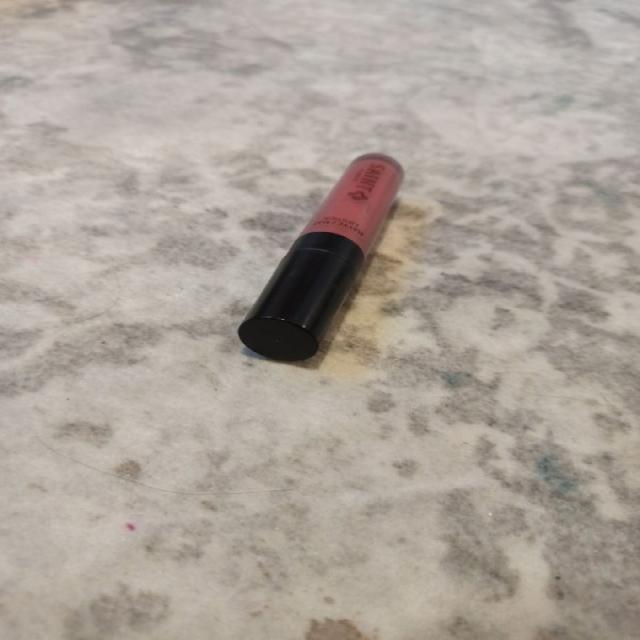lipstick: (236, 151, 405, 362)
